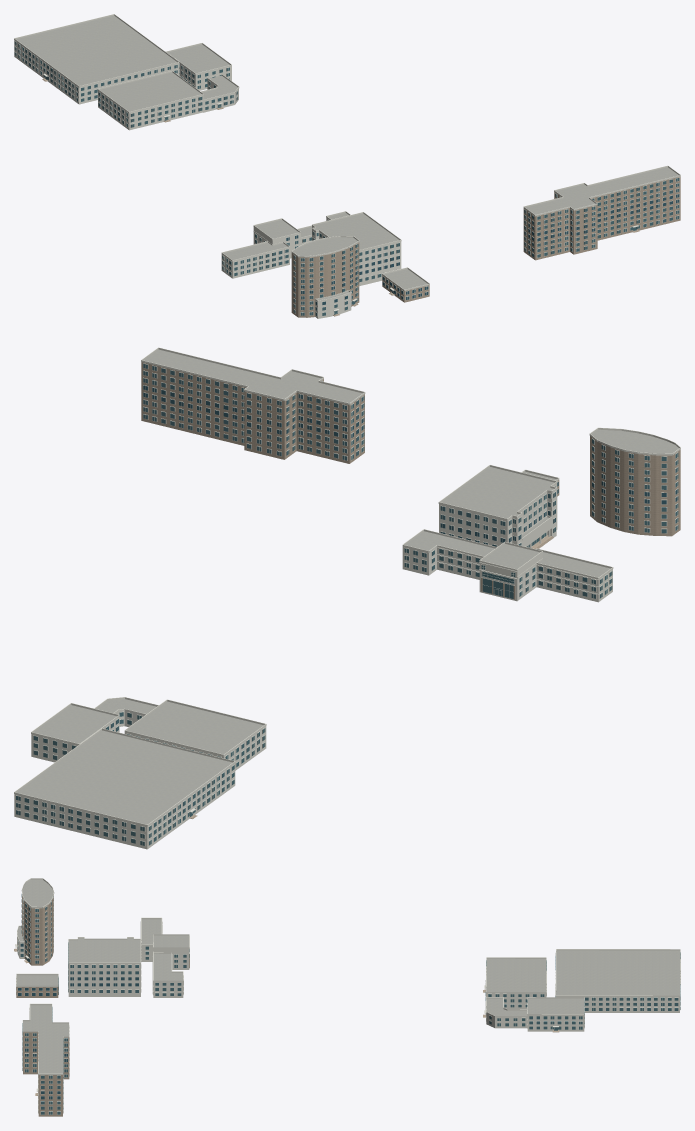
The model's file is chunk-n1-n2.glb.
The picture shows the model from 3 angles, top to bottom: view 1: azimuth 30°, elevation 25°; view 2: azimuth 150°, elevation 25°; view 3: azimuth 270°, elevation 25°; orthographic projection. The views are drawn at different scales.
Parts seen in each view (by area): view 1: chunk-n1-n2; view 2: chunk-n1-n2; view 3: chunk-n1-n2.
Part boxes in pixels (x1,y1,x2,y2): chunk-n1-n2: [14, 14, 680, 318]; chunk-n1-n2: [14, 347, 680, 849]; chunk-n1-n2: [14, 878, 680, 1116].
Bounding box in the file's own units: 252 × 41.12 × 387.
Materials: 5 (2 with a texture image).
